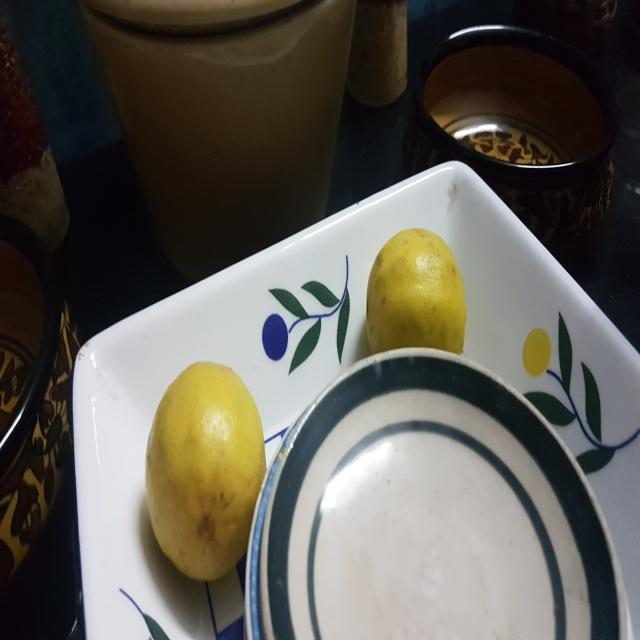lemon: (139, 357, 273, 580), (366, 219, 475, 384)
